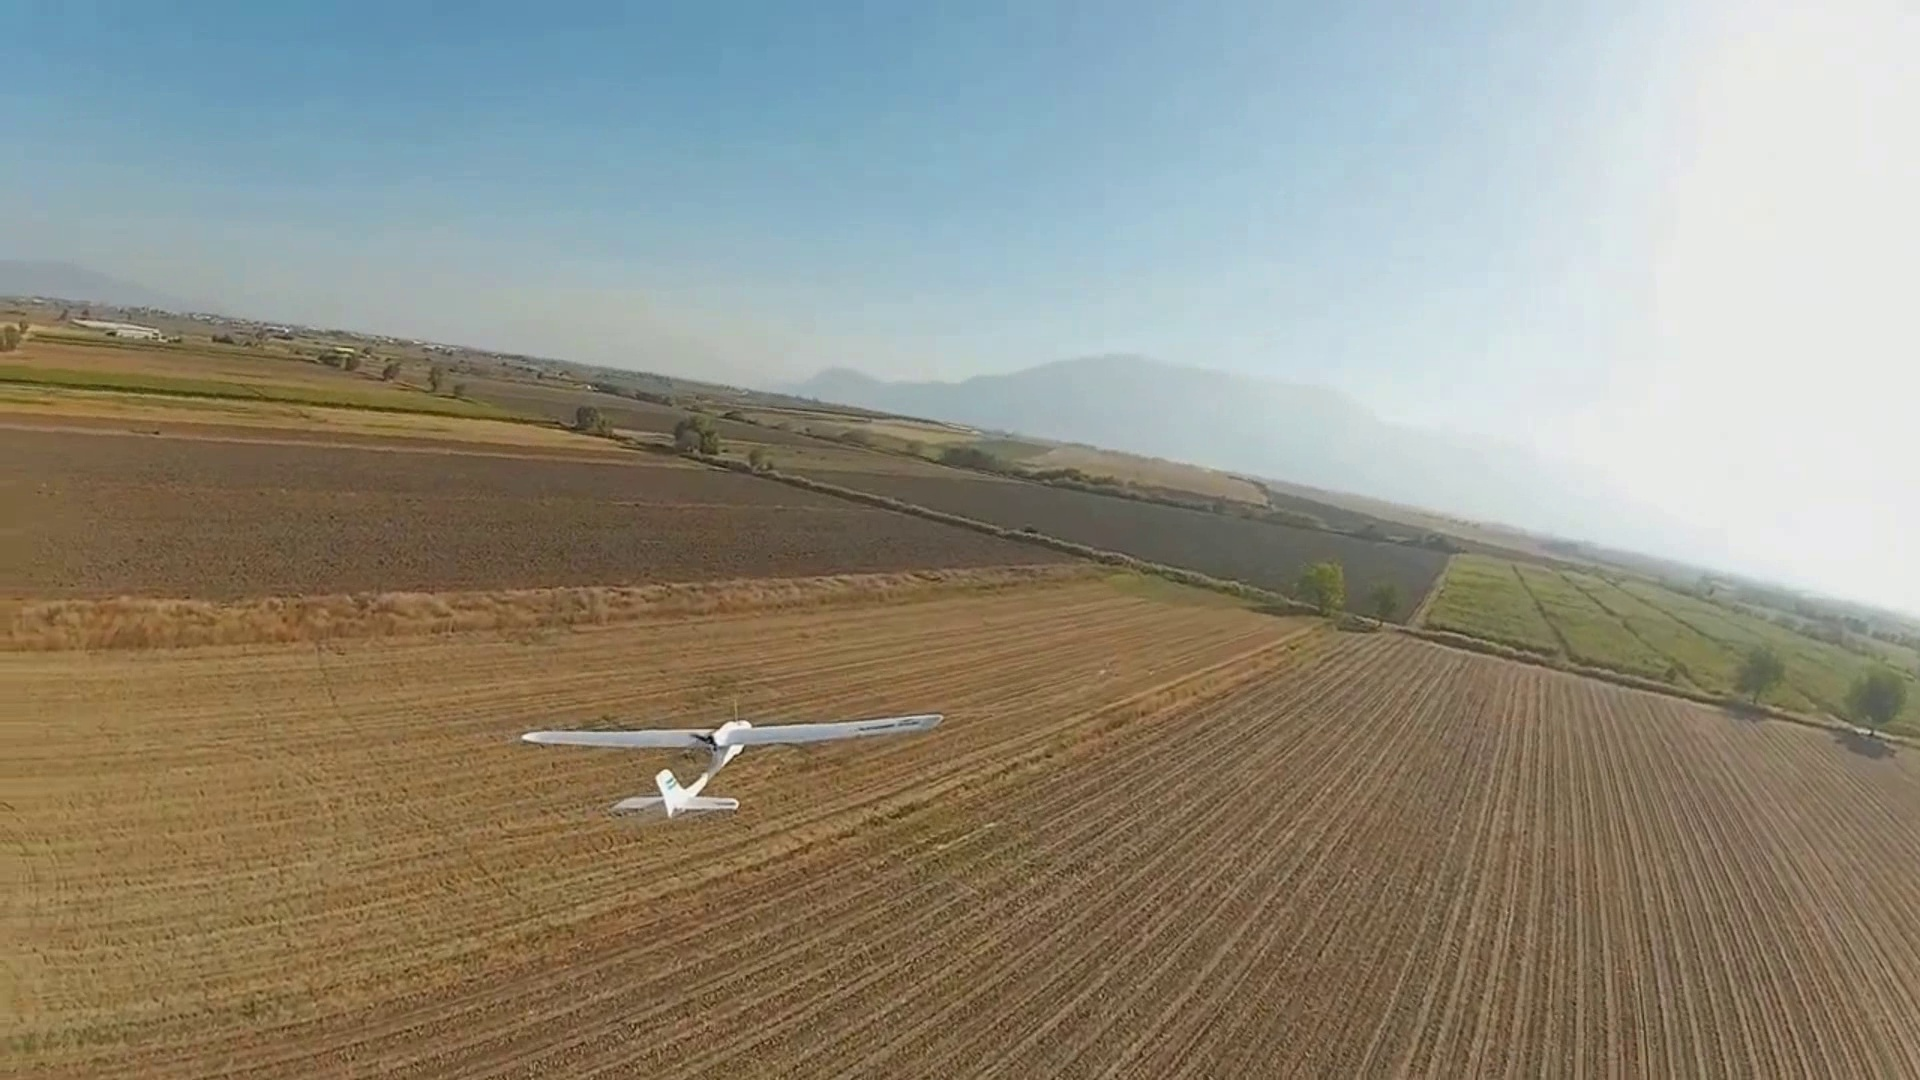airplane: (514, 709, 943, 820)
